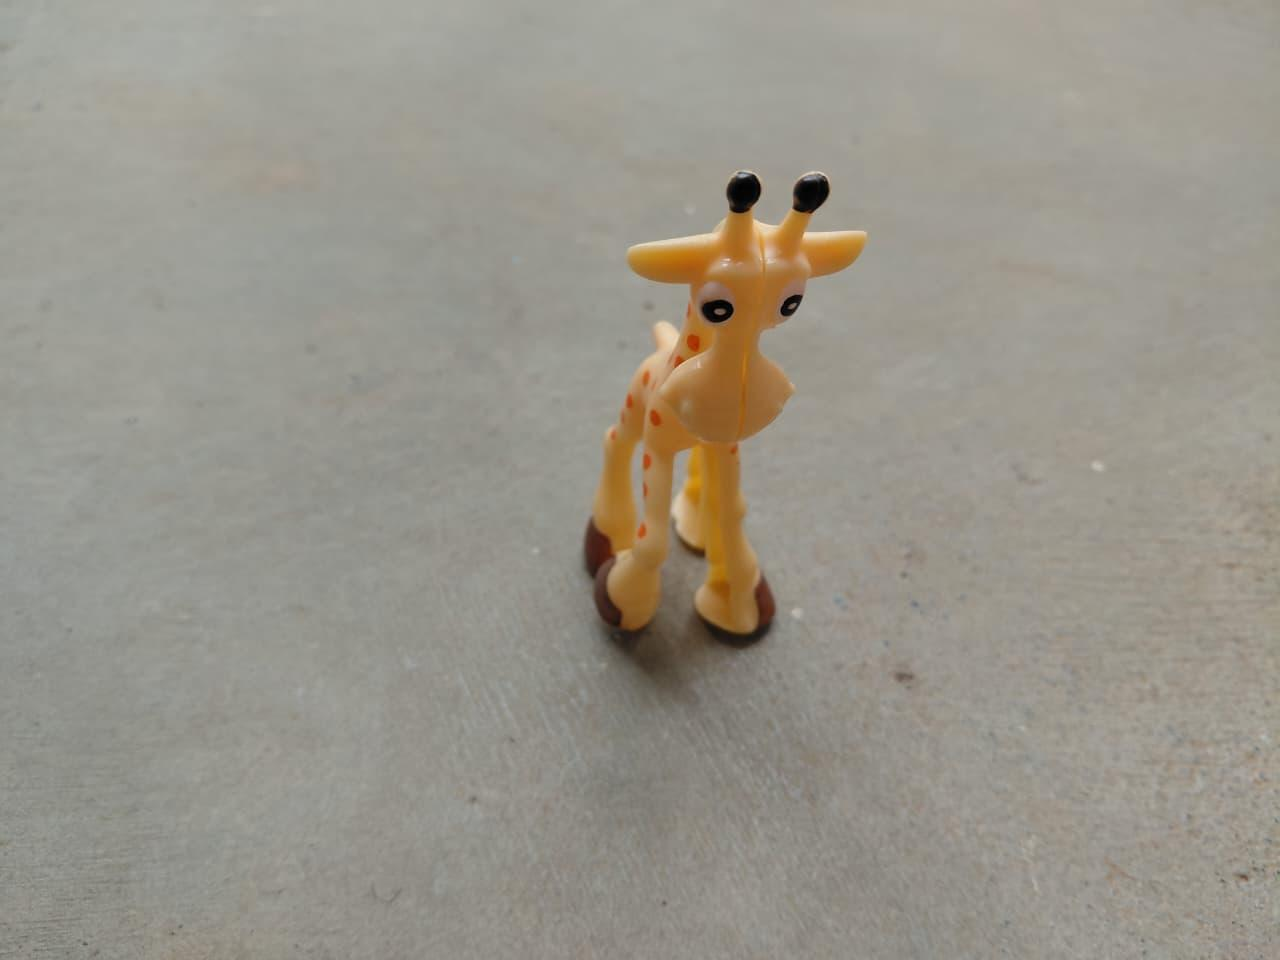giraffe: (568, 156, 864, 653)
